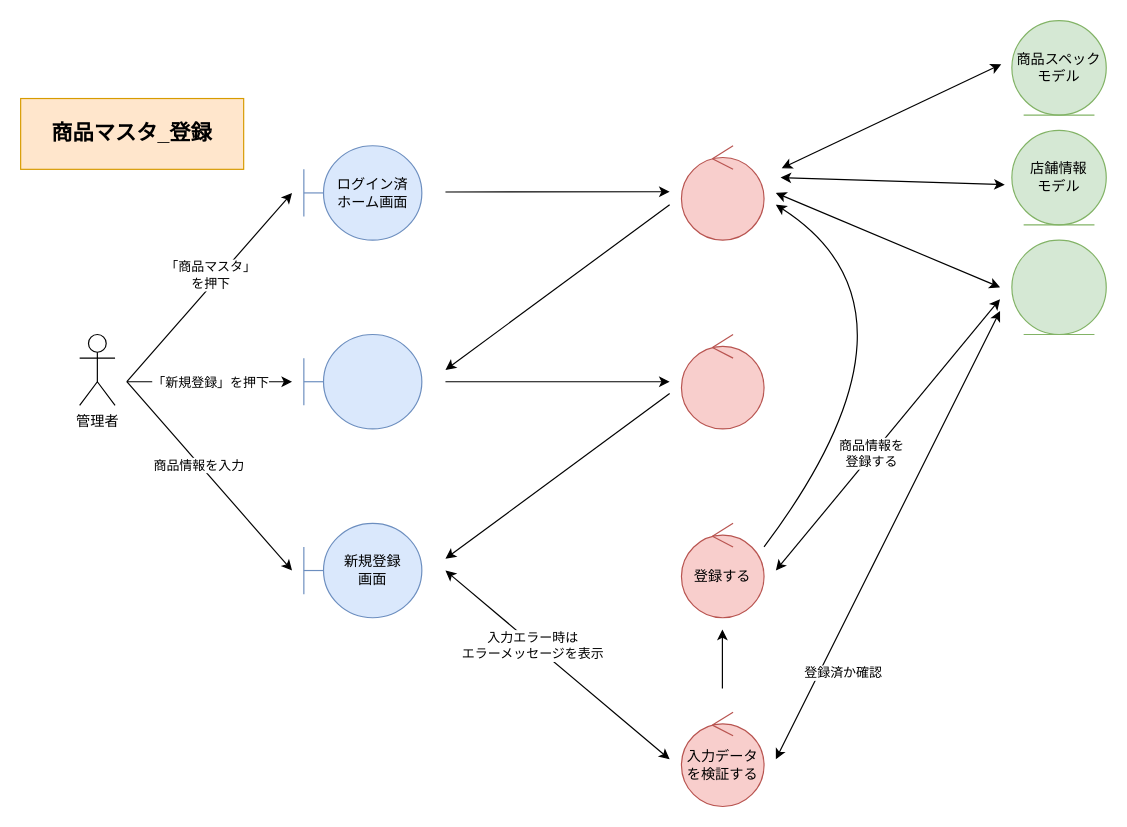
The diagram is 1127 pixels wide and 827 high, and some of its shapes have lost their labels. The shapes that lost their labels are listed below. From the top down, each one's box as (x1, y1, x2, y2) in pixels, then its label:
(680, 145, 764, 240): 商品情報 を取得する
(1011, 239, 1106, 335): 商品情報 モデル
(303, 333, 422, 429): 商品情報 一覧画面
(680, 333, 764, 429): 表示する
